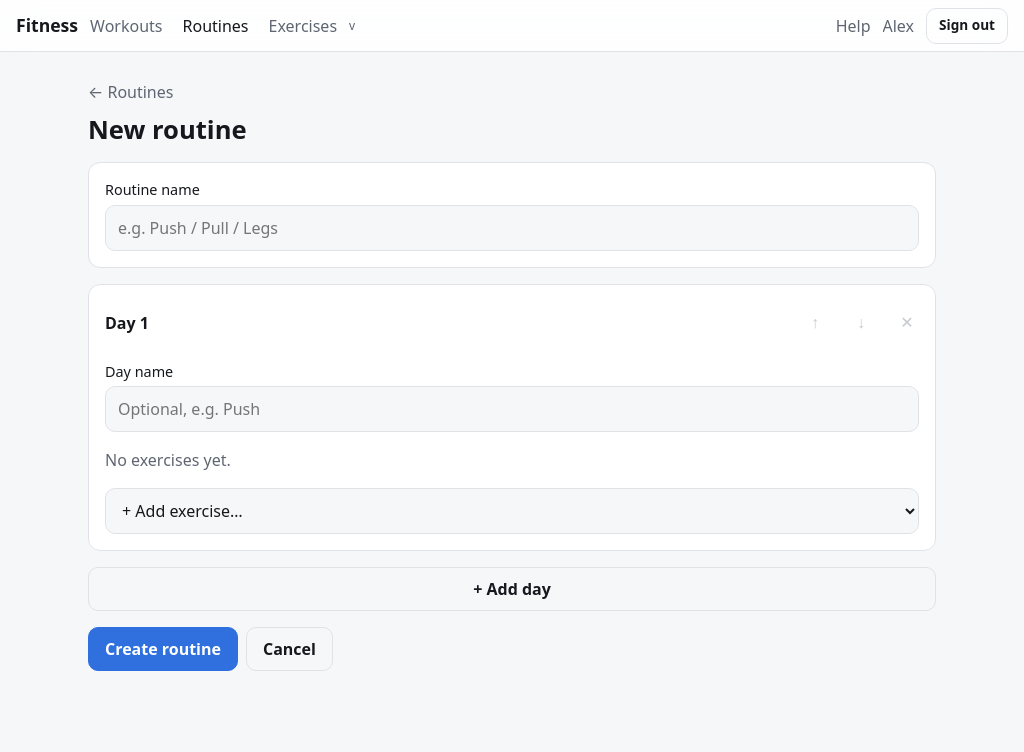
Test case: routines › asks for at least one exercise per day before saving
Type "PPL" into the field labelled "Routine name". click: {"x": 512, "y": 228}
box: [105,205,919,251]
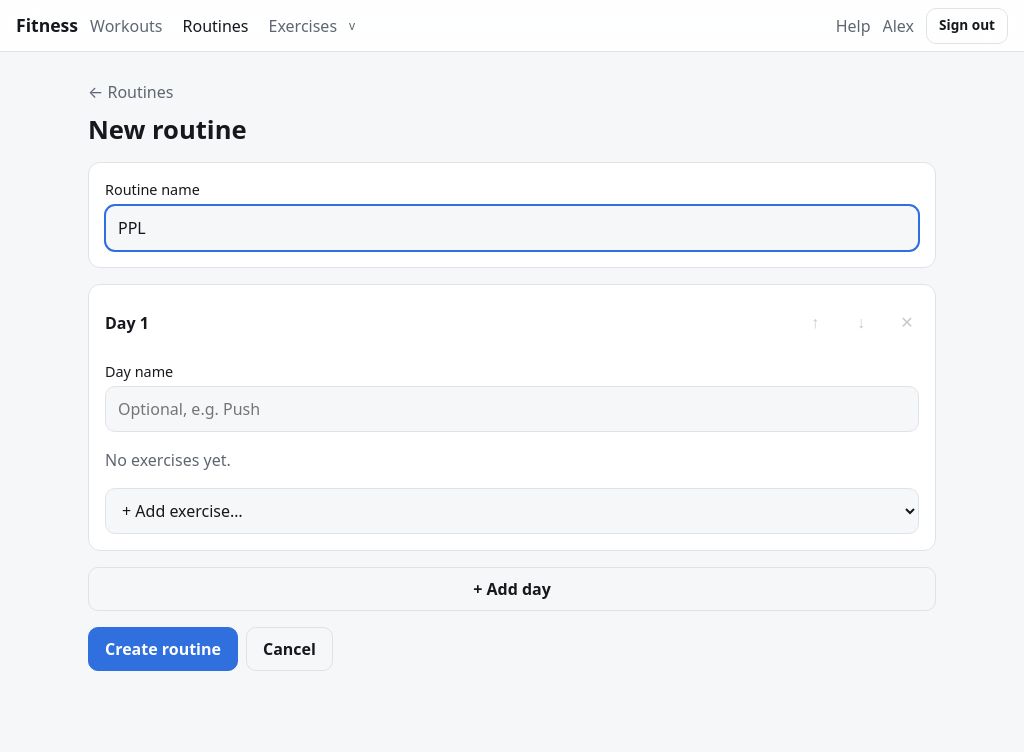
Select "Barbell Bench Press" in the dropdown named "Add exercise to day 1". click: {"x": 512, "y": 511}
box: [105,488,919,534]
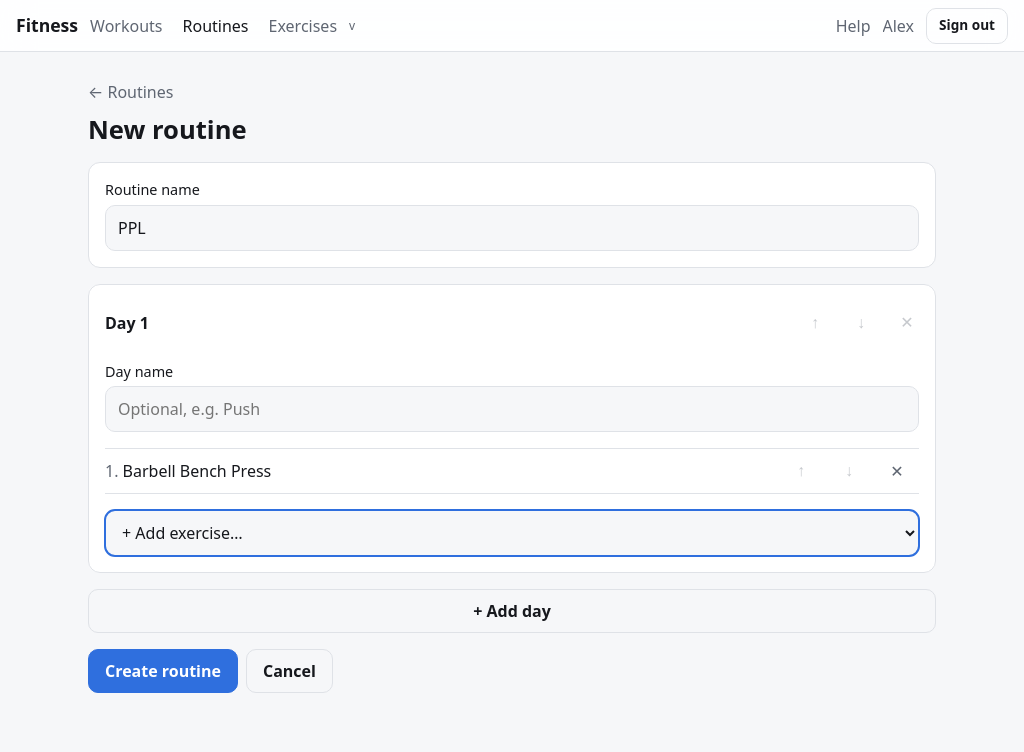
Click the button "+ Add day". click: {"x": 512, "y": 611}
box: [88,589,936,633]
(page scrolled)
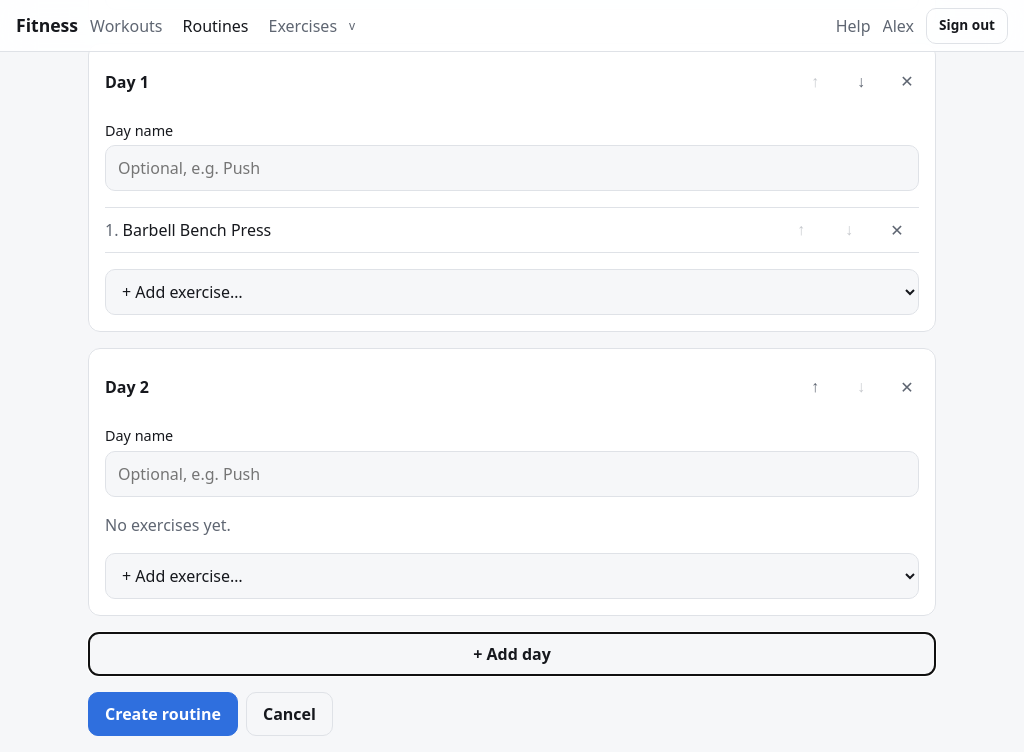
Click the button "Create routine". click: {"x": 163, "y": 714}
box: [88,692,238,736]
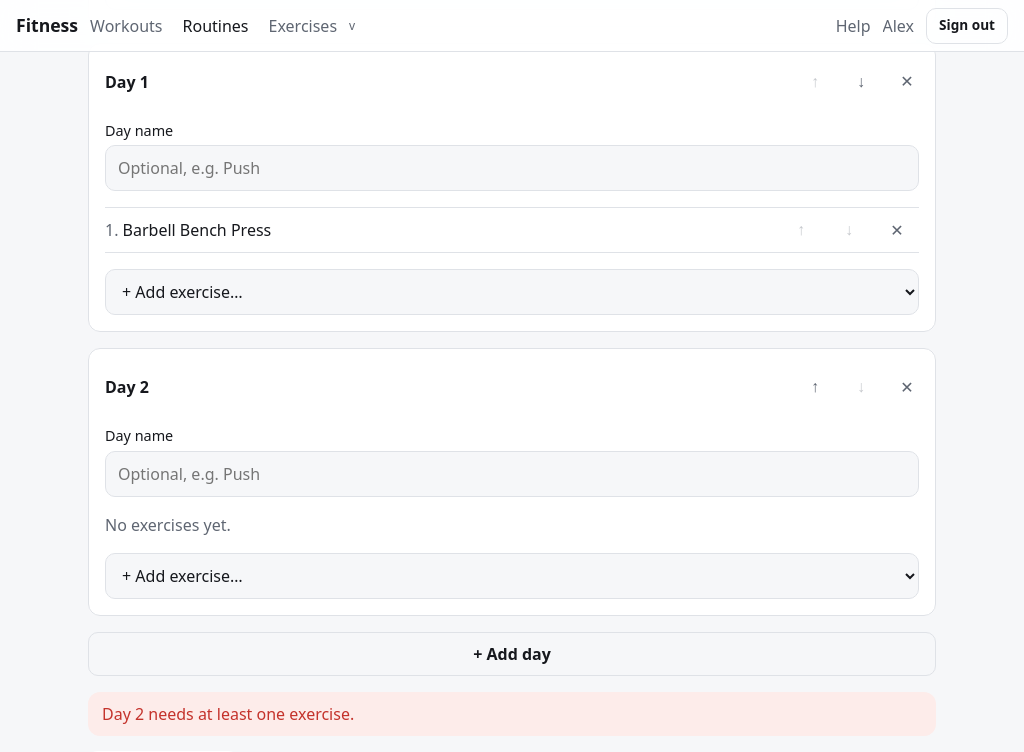
Expected: the message reads "Day 2 needs at least one exercise.", [102,703,354,725]
